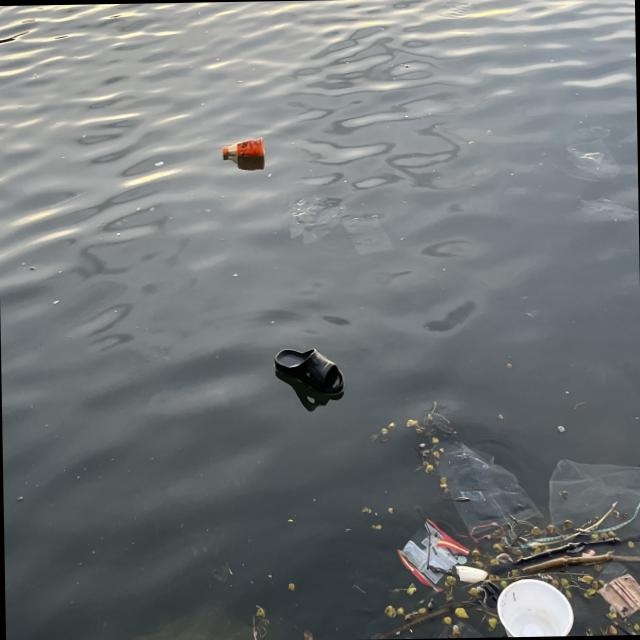foam: (496, 578, 573, 637)
plastic: (223, 137, 266, 158)
plastic bottle: (433, 442, 542, 538), (548, 454, 640, 556), (398, 518, 468, 592), (290, 196, 347, 244), (342, 215, 392, 254), (434, 613, 490, 638)
unknow: (276, 346, 345, 396), (596, 573, 640, 618), (476, 580, 500, 608)
